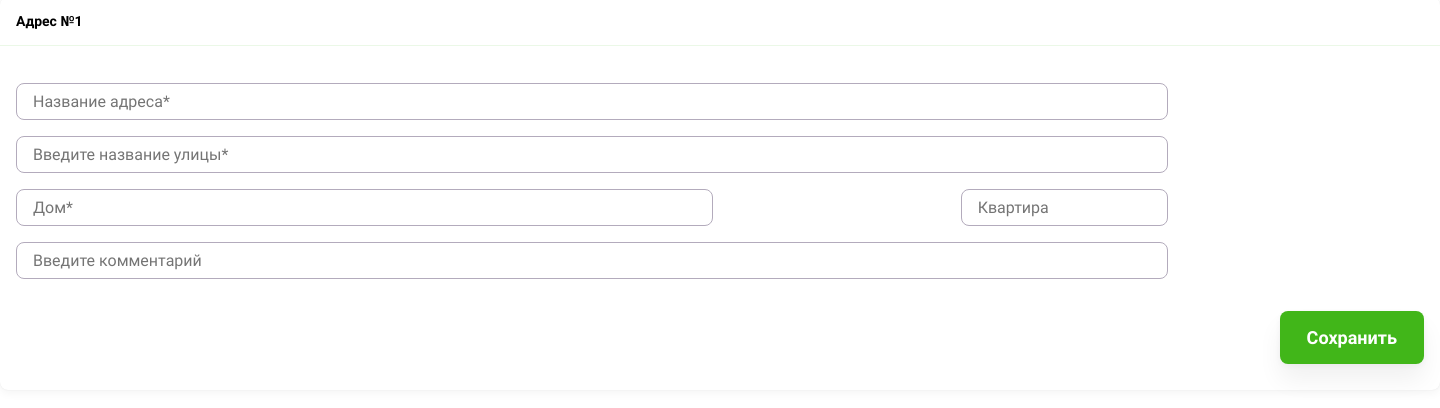
Test: UserDataAddressForm.vue › render address validation error
Click the button with test id "address-save" at [1352, 338], box [1280,311,1424,364]
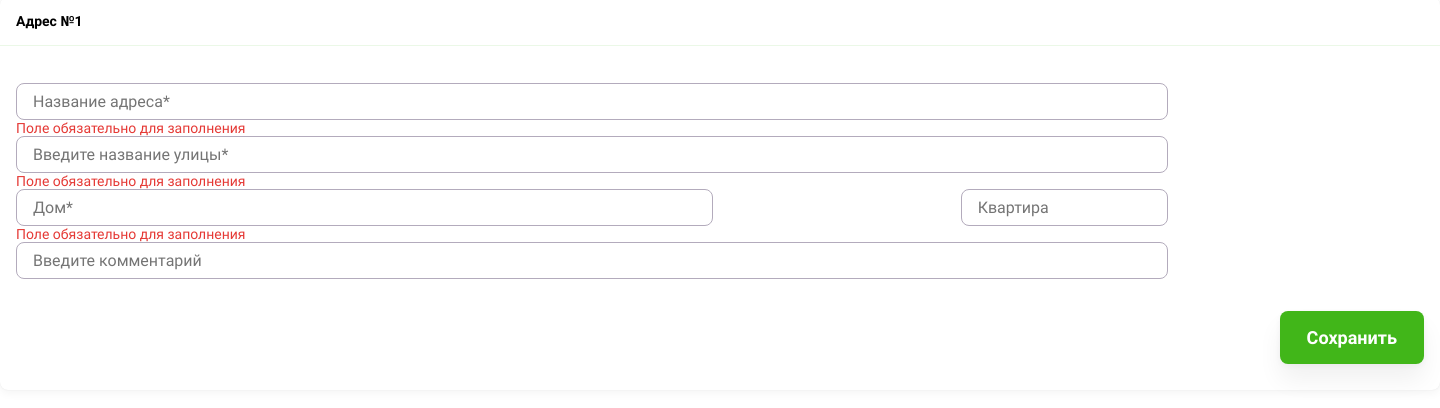
Now the 1st text with test id "error" reads "Поле обязательно для заполнения", box [16,120,246,136]
Now the 2nd text with test id "error" reads "Поле обязательно для заполнения", box [16,173,246,189]
Now the 3rd text with test id "error" reads "Поле обязательно для заполнения", box [16,226,246,242]
